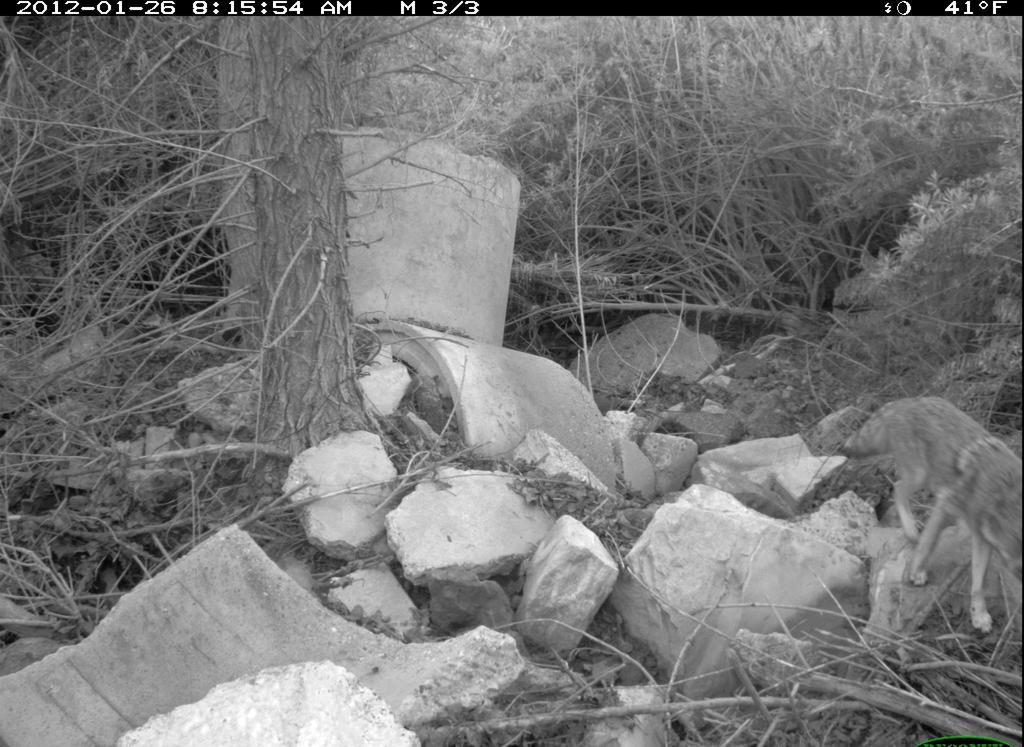coyote: (838, 386, 1021, 637)
